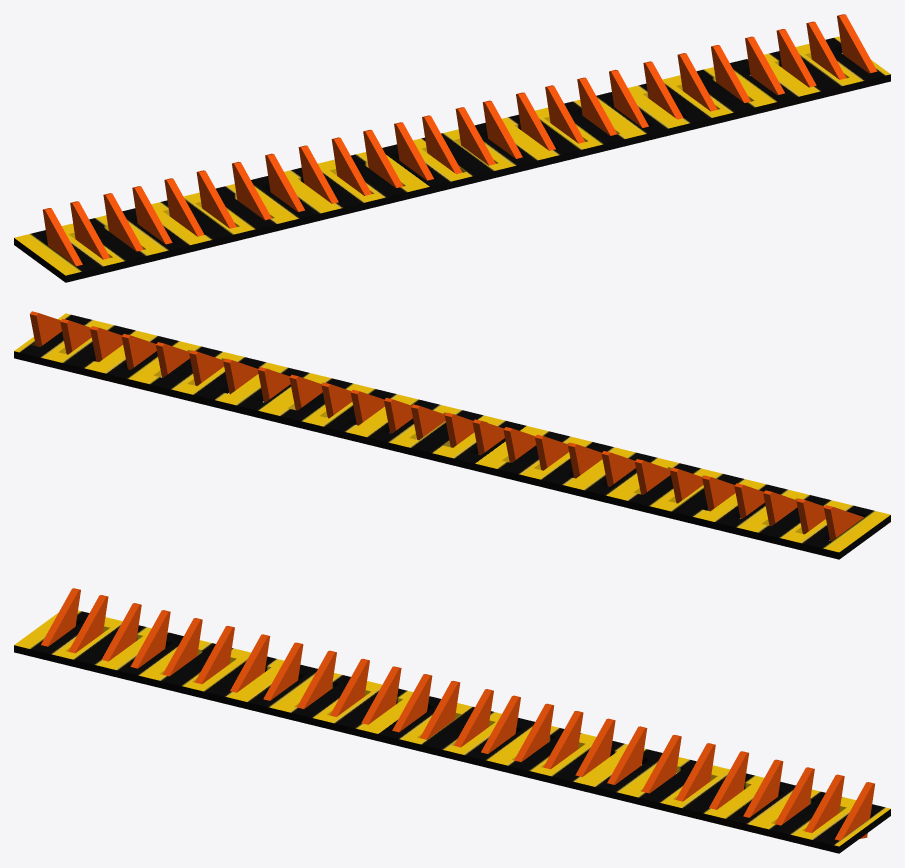
The model's file is Traffic Spikes  (1).fbx.
3 views of the same model, one above another, from view 1: azimuth 30°, elevation 25°; view 2: azimuth 150°, elevation 25°; view 3: azimuth 330°, elevation 25° (orthographic).
Visible parts, largest first — view 1: Cube_002, Cube_025; view 2: Cube_002, Cube_025; view 3: Cube_002, Cube_025.
Boxes of the visible parts, x1,y1,x2,y2 form: Cube_002: (14, 36, 890, 282); Cube_025: (42, 14, 877, 266); Cube_002: (14, 313, 890, 559); Cube_025: (29, 311, 863, 540); Cube_002: (14, 610, 890, 853); Cube_025: (41, 588, 874, 840).
Bounding box in the file's own units: 278 × 15.87 × 30.11.
